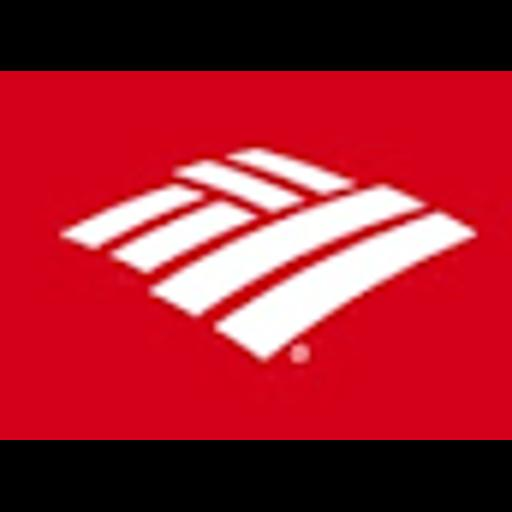Bank of America: (0, 71, 512, 440)
